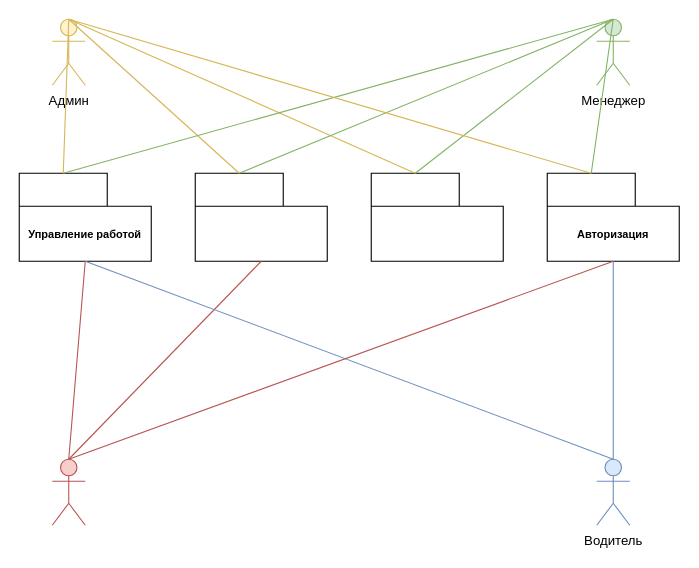
Some shapes in this 699 by 568 pixel diagram are drawn without their labels. Each missing label, with the box of its shape:
Администрирование системы: (370, 172, 503, 261)
Диспечер: (51, 458, 85, 525)
Управление и создание заявок: (194, 172, 327, 261)
